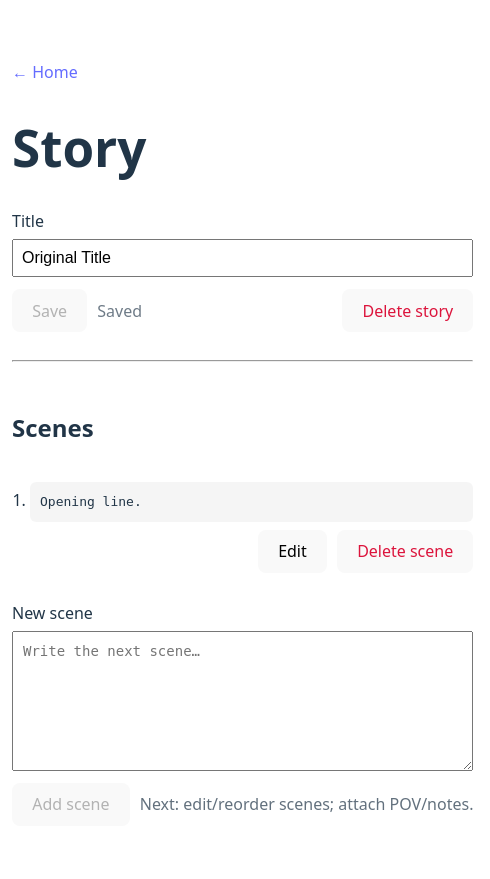
Test: adds a new scene
Expected: the text "Opening line." is shown, 30,482 -> 473,522
Type "Second scene." into the text box with placeholder "Write the next scene…" at (243, 701), box 12,631 -> 473,771
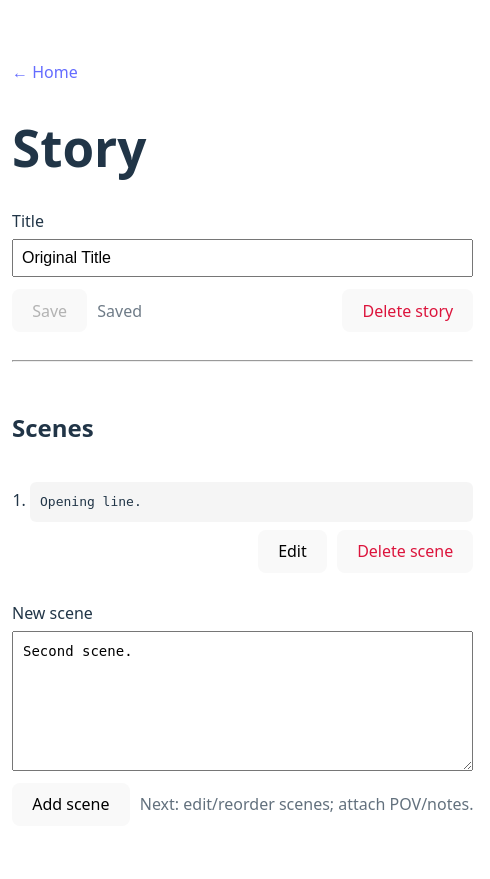
Click the button "Add scene" at (71, 804), box 12,782 -> 130,826
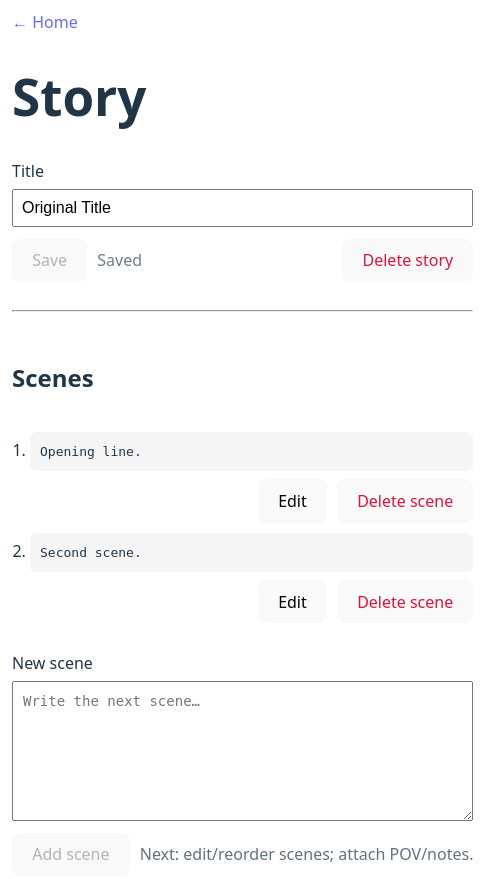
Expected: the text "Second scene." is shown, 30,533 -> 473,572
